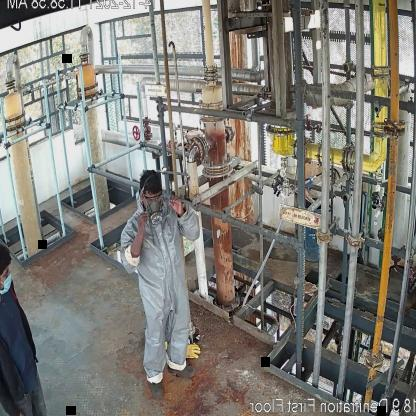mask: (148, 201, 164, 226)
no_glove: (130, 213, 148, 257), (168, 193, 186, 218)
